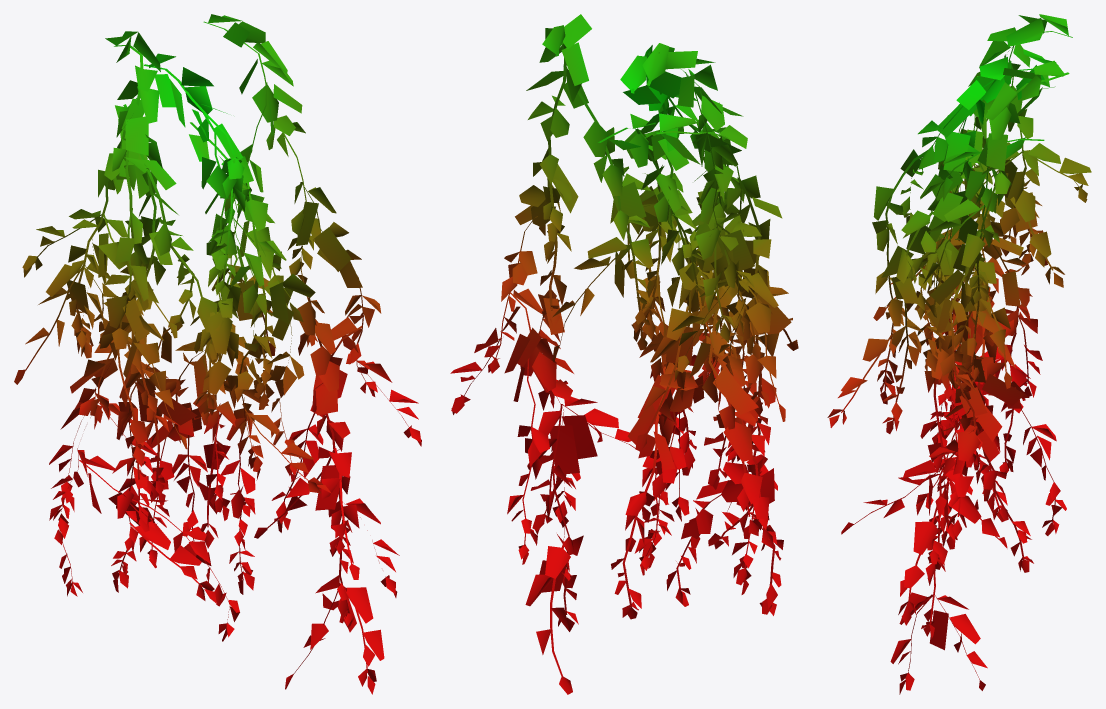
File: Var4_LOD4.fbx
3 renders of one model, left to right at view 1: azimuth 30°, elevation 25°; view 2: azimuth 150°, elevation 25°; view 3: azimuth 270°, elevation 25°, orthographic. The views are drawn at different scales.
Visible parts, largest first — view 1: _htb9_Var4_LOD4; view 2: _htb9_Var4_LOD4; view 3: _htb9_Var4_LOD4.
Boxes of the visible parts, box(x1,y1,x2,y2) form: _htb9_Var4_LOD4: box(14, 14, 421, 694); _htb9_Var4_LOD4: box(450, 14, 798, 694); _htb9_Var4_LOD4: box(827, 14, 1091, 694).
Bounding box in the file's own units: 78.98 × 140 × 53.97.
